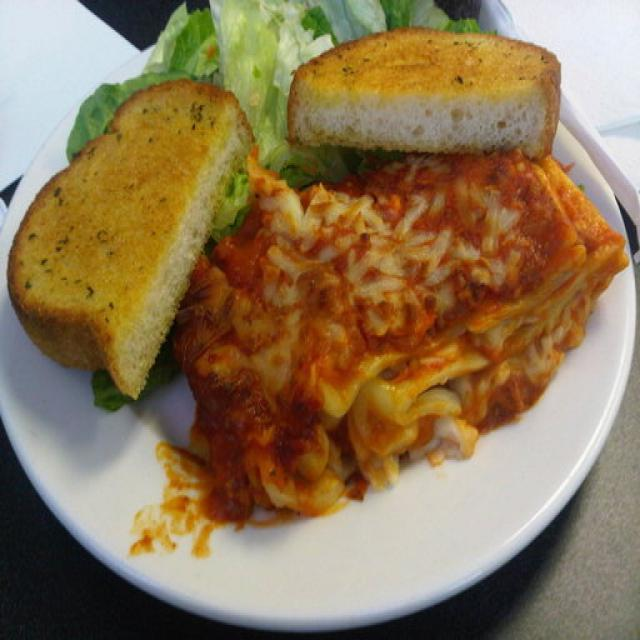Lasagna: (229, 195, 601, 477)
